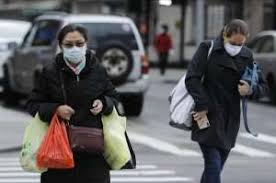mask: (60, 24, 87, 67), (222, 18, 246, 59)
